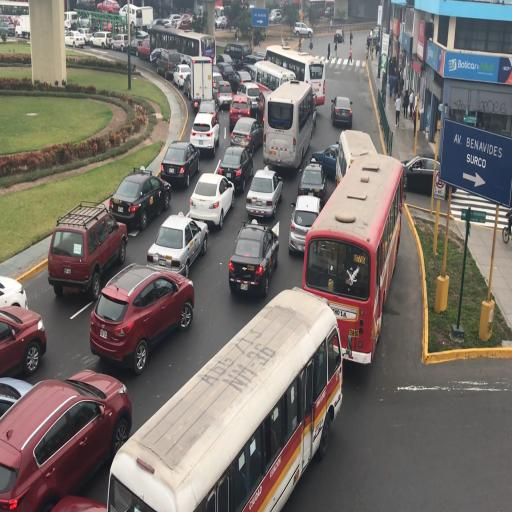auto: (1, 372, 129, 510), (91, 265, 194, 370), (48, 203, 127, 300), (228, 220, 280, 300), (147, 214, 207, 278), (109, 168, 169, 232), (0, 302, 47, 381), (188, 169, 234, 228), (244, 165, 282, 219), (288, 192, 322, 251), (217, 143, 255, 194), (160, 141, 200, 189), (0, 376, 36, 424), (400, 154, 438, 196), (188, 113, 220, 158), (182, 66, 220, 101), (230, 116, 262, 154), (229, 94, 258, 132), (0, 272, 27, 310), (312, 143, 338, 181), (155, 47, 182, 80), (177, 49, 208, 77), (195, 97, 219, 129), (331, 95, 352, 128), (220, 66, 244, 94), (214, 79, 233, 110), (214, 53, 236, 76), (118, 3, 140, 25), (173, 64, 191, 89), (110, 33, 131, 53), (234, 69, 253, 91), (90, 30, 112, 49), (64, 30, 86, 48), (136, 37, 152, 61), (241, 54, 262, 72), (173, 15, 194, 31), (97, 0, 120, 14), (293, 22, 313, 38), (75, 28, 93, 45), (150, 47, 167, 65), (76, 11, 92, 30), (64, 10, 78, 30), (182, 73, 192, 100), (150, 18, 170, 31), (87, 15, 101, 31), (165, 14, 183, 26), (212, 64, 223, 83), (75, 0, 95, 10), (214, 15, 228, 29), (269, 10, 283, 24), (0, 14, 10, 33), (132, 28, 148, 39), (6, 20, 16, 37), (334, 28, 344, 43), (254, 51, 266, 61), (325, 6, 333, 18)
moto: (111, 291, 330, 503), (305, 146, 399, 357), (262, 78, 312, 173), (266, 44, 325, 107), (336, 128, 377, 190), (249, 58, 292, 111), (15, 15, 30, 38)
